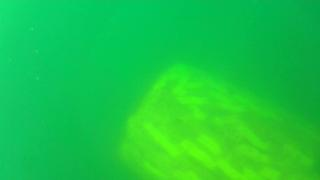pipe: (116, 63, 320, 180)
